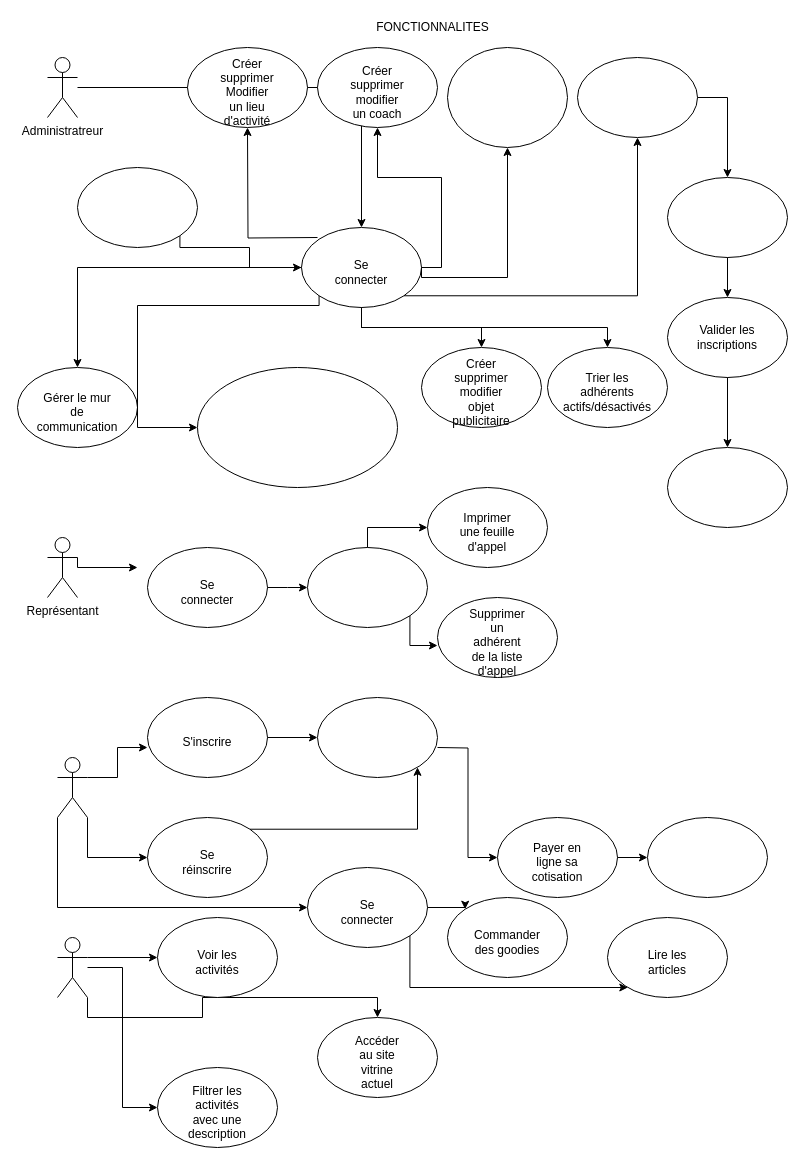
This 805x1165 diagram has some shape labels left out. The shapes that lost their labels are listed below. From the top down, each one's centre as x and y in pixels, then its label:
point 507,97: Créer, Modifier, Supprimer une activité sportive
point 637,97: Créer, Modifier Supprimer un compte adhérent
point 137,207: Envoyer des mail
point 727,217: Vérifier le paiment
point 297,427: Vider la table de la base de données pour les certificats médicaux
point 727,487: Envoyer la carte de membre
point 367,587: Etablir une feuille de présence
point 377,737: Télécharger une photo
point 72,787: Adhérent
point 707,857: Imprimer sa carte de membre validée
point 72,967: Visiteur
